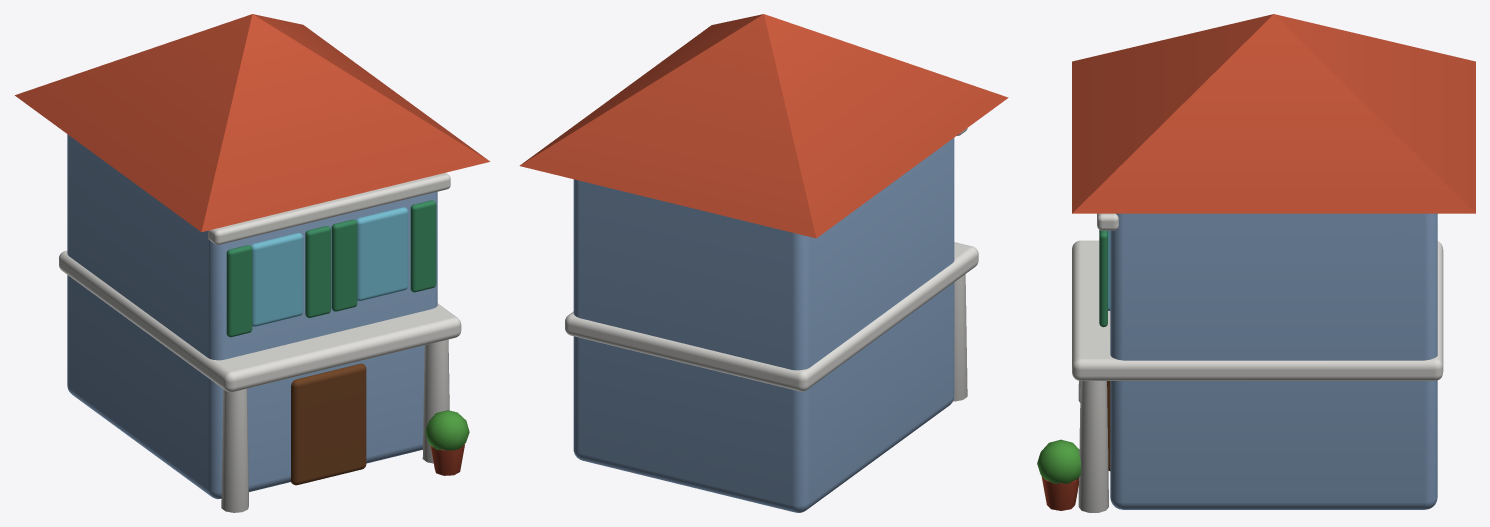
Rendered from shophouse_blue.glb.
The picture shows the model from 3 angles, left to right: view 1: azimuth 30°, elevation 25°; view 2: azimuth 150°, elevation 25°; view 3: azimuth 270°, elevation 25°; orthographic projection. The views are drawn at different scales.
Visible parts, largest first — view 1: shophouse; view 2: shophouse; view 3: shophouse.
Part boxes in pixels (<box>): shophouse: <box>15,14,490,512</box>; shophouse: <box>519,14,1008,512</box>; shophouse: <box>1037,14,1475,512</box>.
Size of the model in its own units: 3.3 by 4.45 by 4.02.
